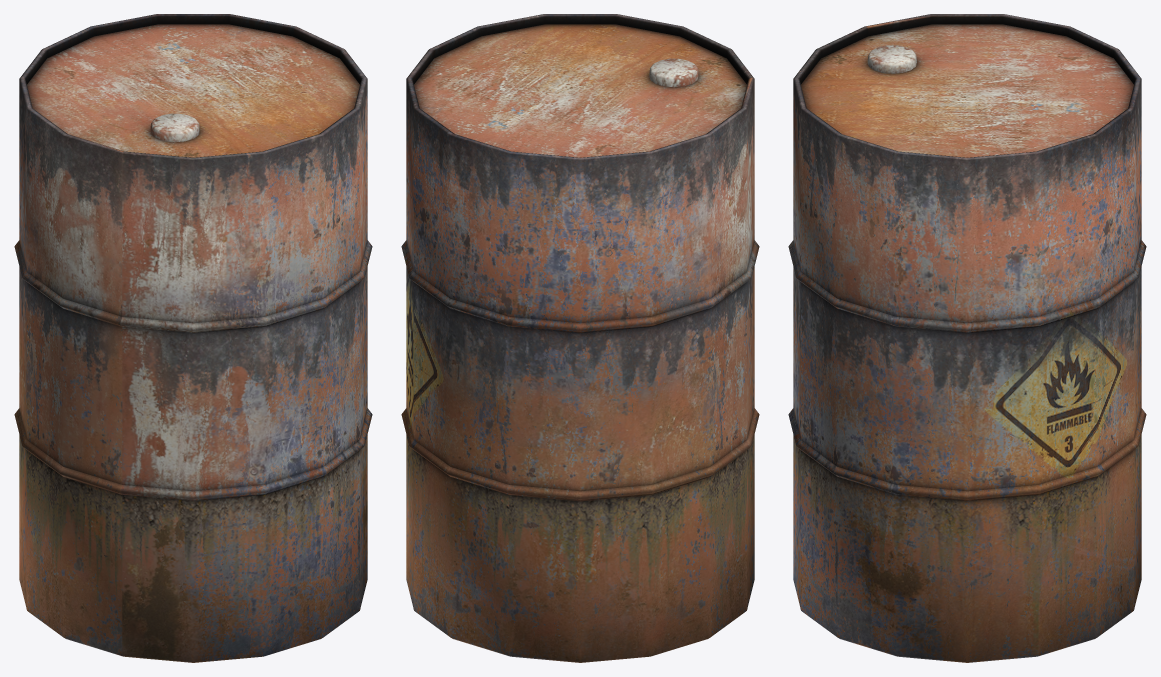
The model's file is Oil_Drum.FBX.
The picture shows the model from 3 angles, left to right: view 1: azimuth 30°, elevation 25°; view 2: azimuth 150°, elevation 25°; view 3: azimuth 270°, elevation 25°; orthographic projection.
Visible parts, largest first — view 1: Petrol Drum; view 2: Petrol Drum; view 3: Petrol Drum.
Part boxes in pixels (left/top/right/bottom): Petrol Drum: left=14, top=14, right=372, bottom=662; Petrol Drum: left=401, top=14, right=759, bottom=662; Petrol Drum: left=788, top=14, right=1146, bottom=662.
Bounding box in the file's own units: 70.37 × 111 × 70.75.
Materials: 1 (1 with a texture image).
